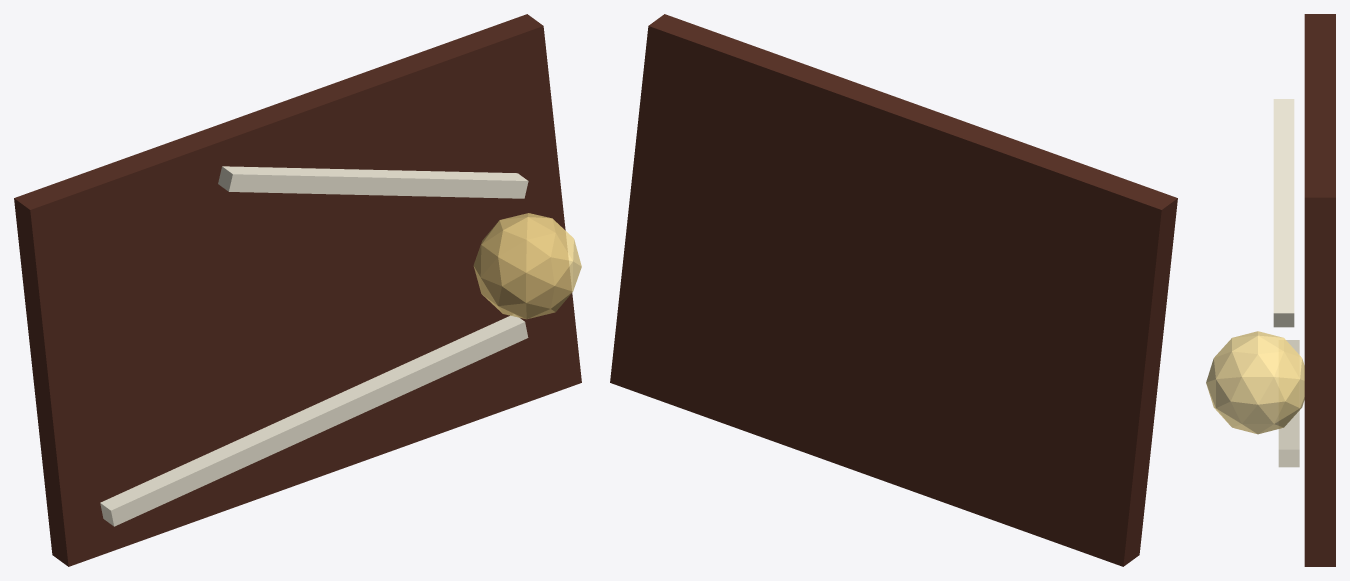
File: 02_world_prop_polish.glb
The picture shows the model from 3 angles, left to right: view 1: azimuth 30°, elevation 25°; view 2: azimuth 150°, elevation 25°; view 3: azimuth 270°, elevation 25°; orthographic projection. The views are drawn at different scales.
Parts seen in each view (by area): view 1: object_overlay_plate, edge_wear_a, glow_socket, edge_wear_b; view 2: object_overlay_plate; view 3: object_overlay_plate, glow_socket, edge_wear_b, edge_wear_a.
Boxes of the visible parts, left/top/right/bottom form: object_overlay_plate: left=14, top=14, right=581, bottom=566; edge_wear_a: left=100, top=315, right=528, bottom=526; glow_socket: left=473, top=213, right=581, bottom=319; edge_wear_b: left=218, top=166, right=528, bottom=198; object_overlay_plate: left=610, top=14, right=1177, bottom=566; object_overlay_plate: left=1304, top=14, right=1335, bottom=566; glow_socket: left=1206, top=331, right=1304, bottom=434; edge_wear_b: left=1273, top=99, right=1294, bottom=327; edge_wear_a: left=1278, top=340, right=1299, bottom=467.
Size of the model in its own units: 1.18 by 0.8654 by 0.25.
